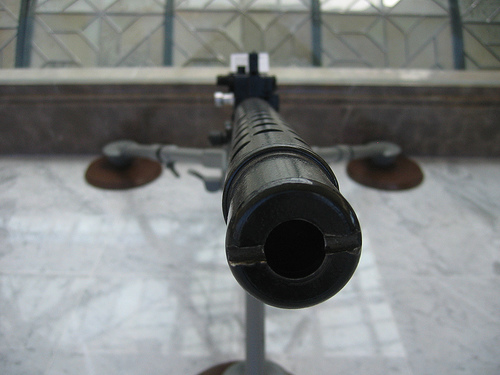rifle: (122, 75, 432, 314)
